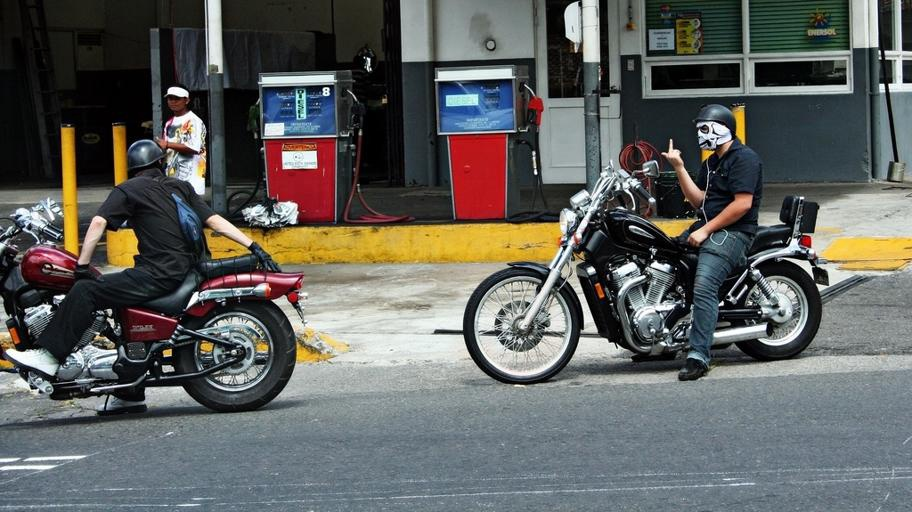non-vehicle: (462, 157, 831, 382), (0, 196, 308, 414)
